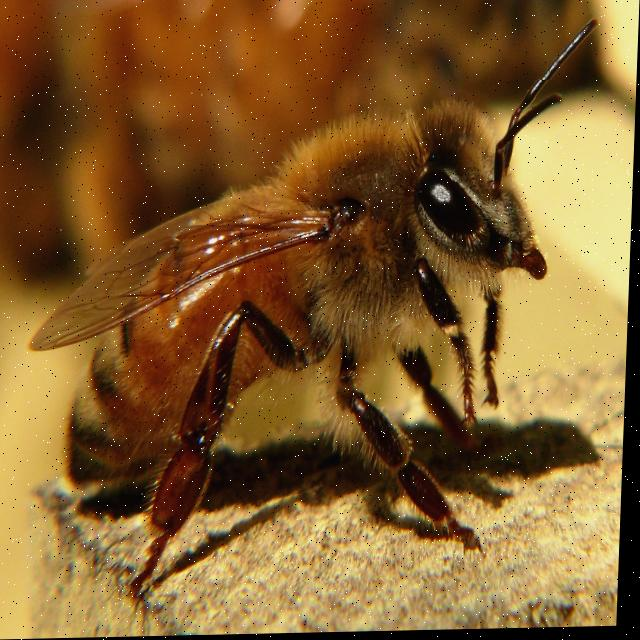Apis-mellifera-scutellata: (22, 82, 583, 588)
